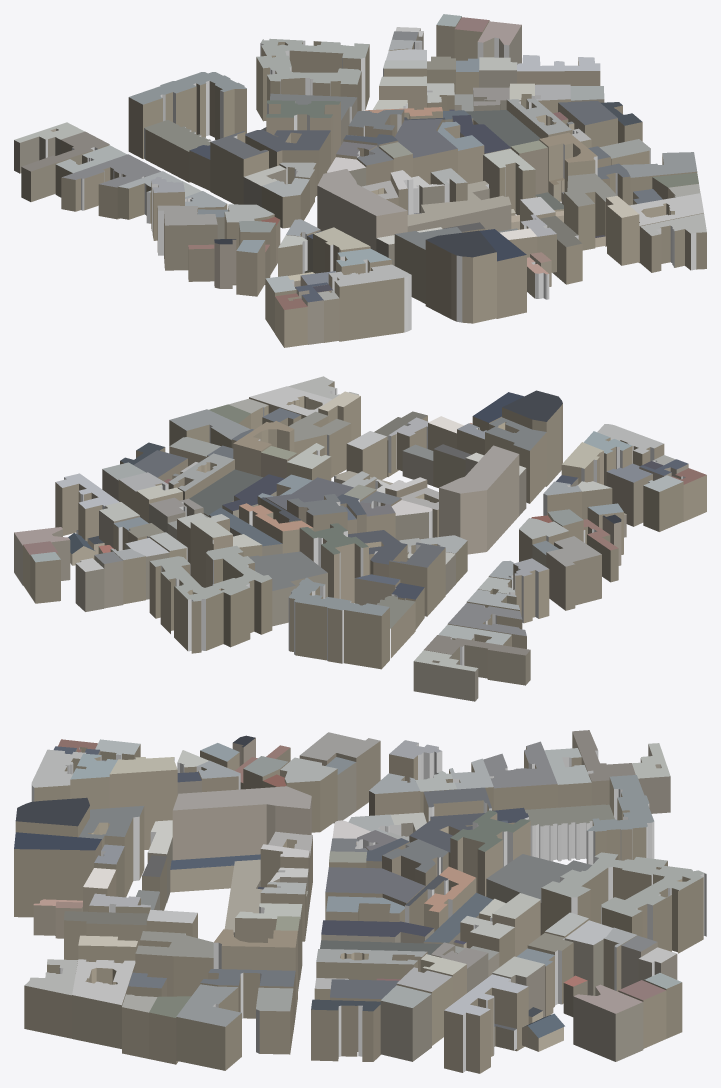
3 renders of one model, top to bottom at view 1: azimuth 30°, elevation 25°; view 2: azimuth 150°, elevation 25°; view 3: azimuth 270°, elevation 25°, orthographic. The views are drawn at different scales.
Visible parts, largest first — view 1: tuile; view 2: tuile; view 3: tuile.
Part boxes in pixels (x1=…): tuile: x1=14, y1=14, x2=706, y2=347; tuile: x1=14, y1=376, x2=706, y2=701; tuile: x1=14, y1=730, x2=706, y2=1073.
Size of the model in its own units: 290 by 45.97 by 280.
